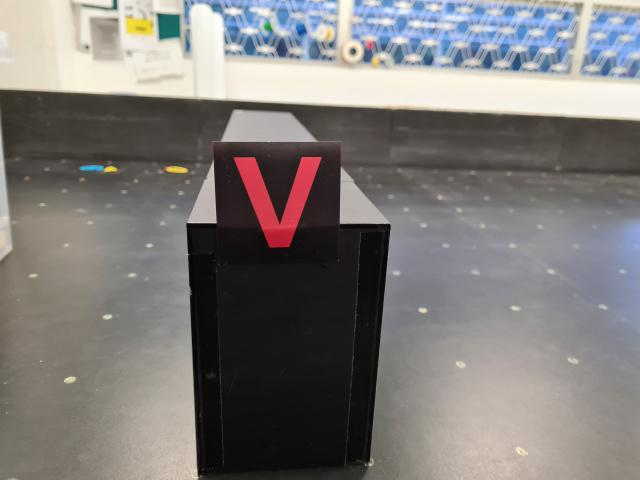v: (209, 141, 341, 259)
